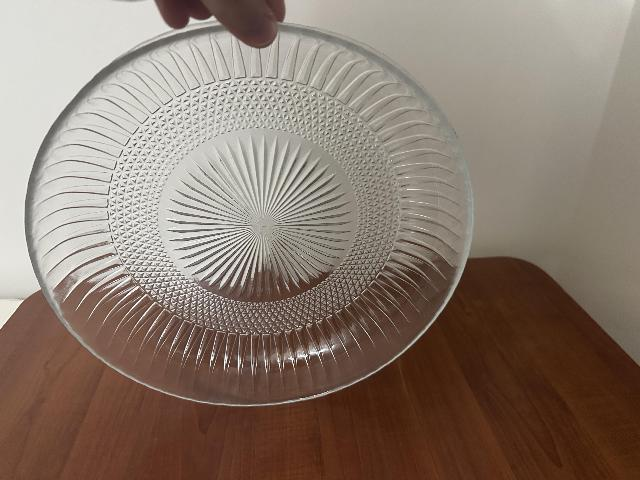Cam: (14, 14, 495, 414)
